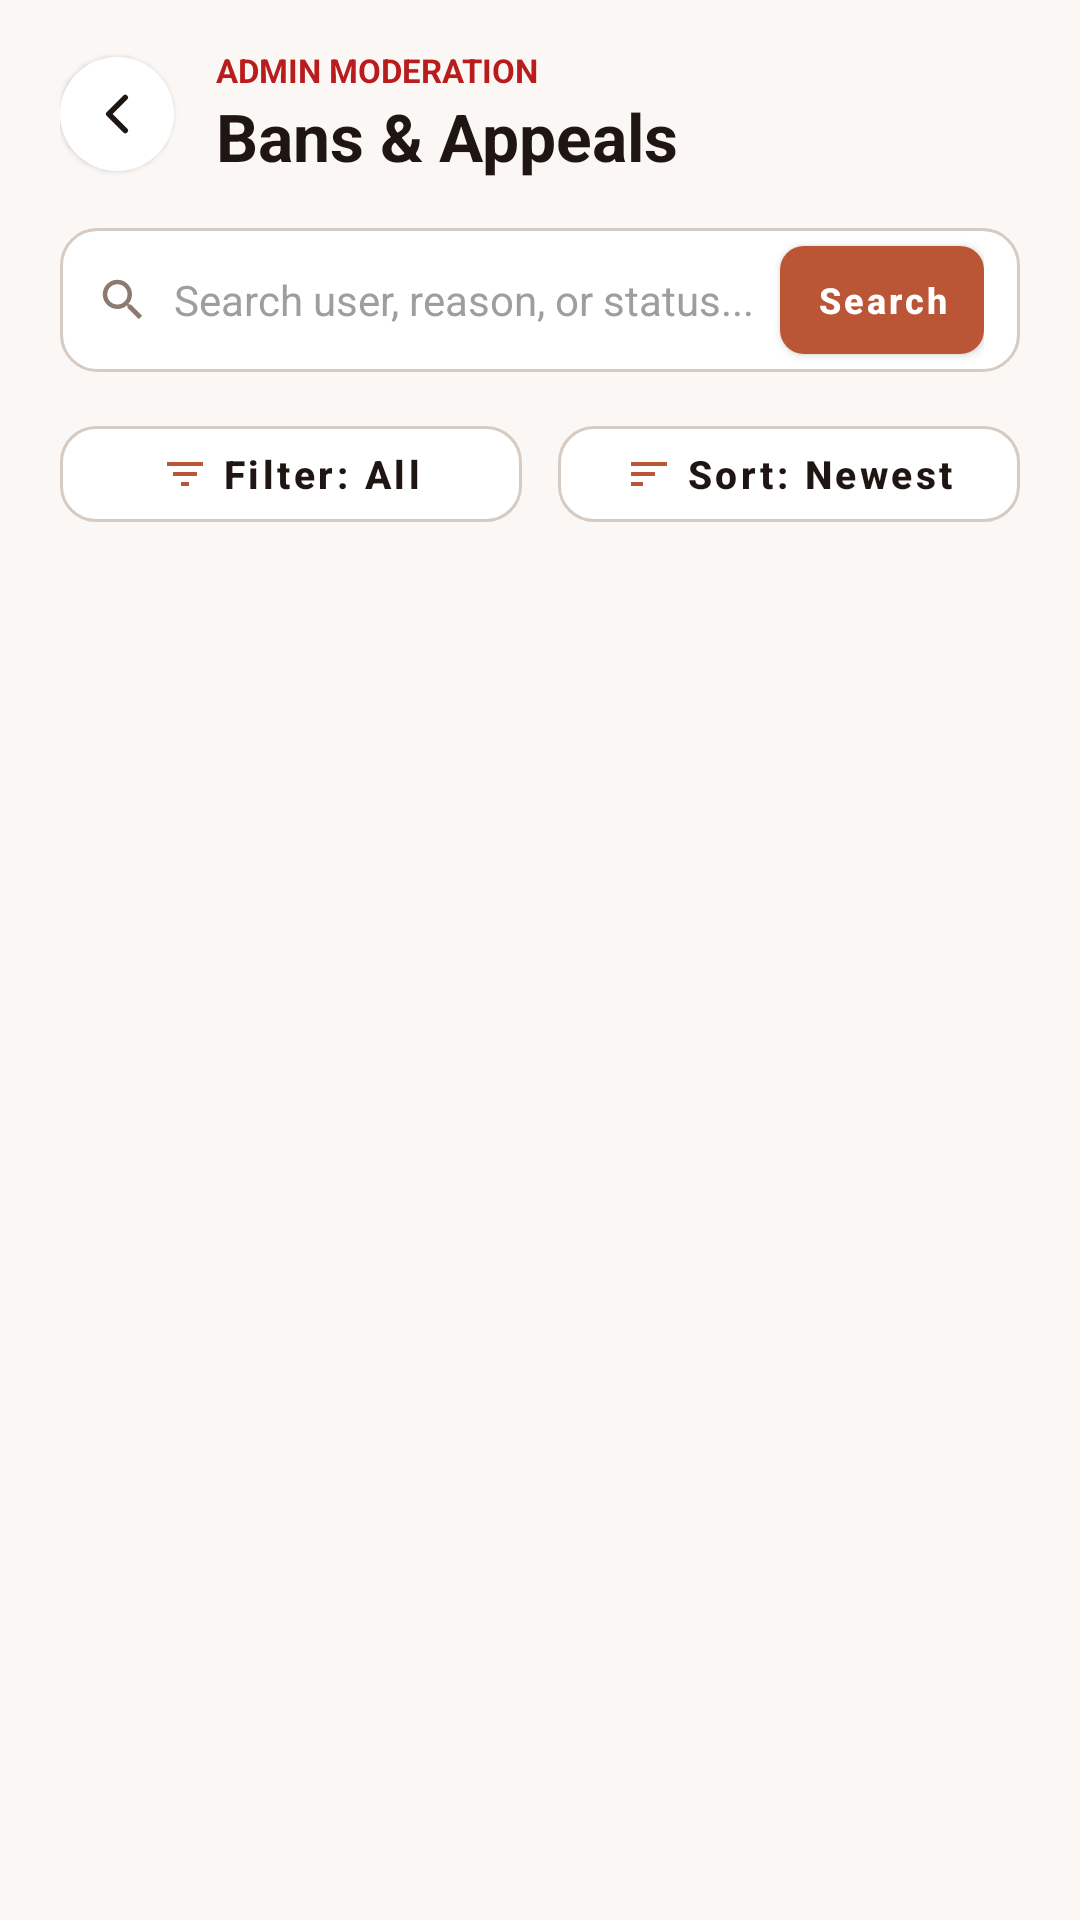

Point at icon controls on the screen. Image size 1080w x 1920h, points as (x=x, y=y).
Back: (x=117, y=114)
